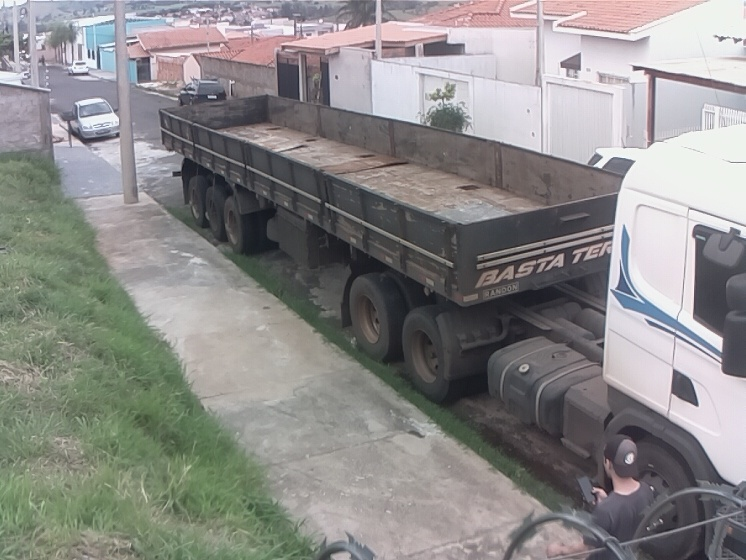person: (574, 431, 654, 560)
